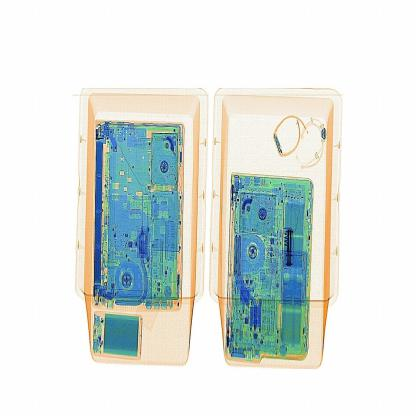scissors: (282, 226, 298, 270)
